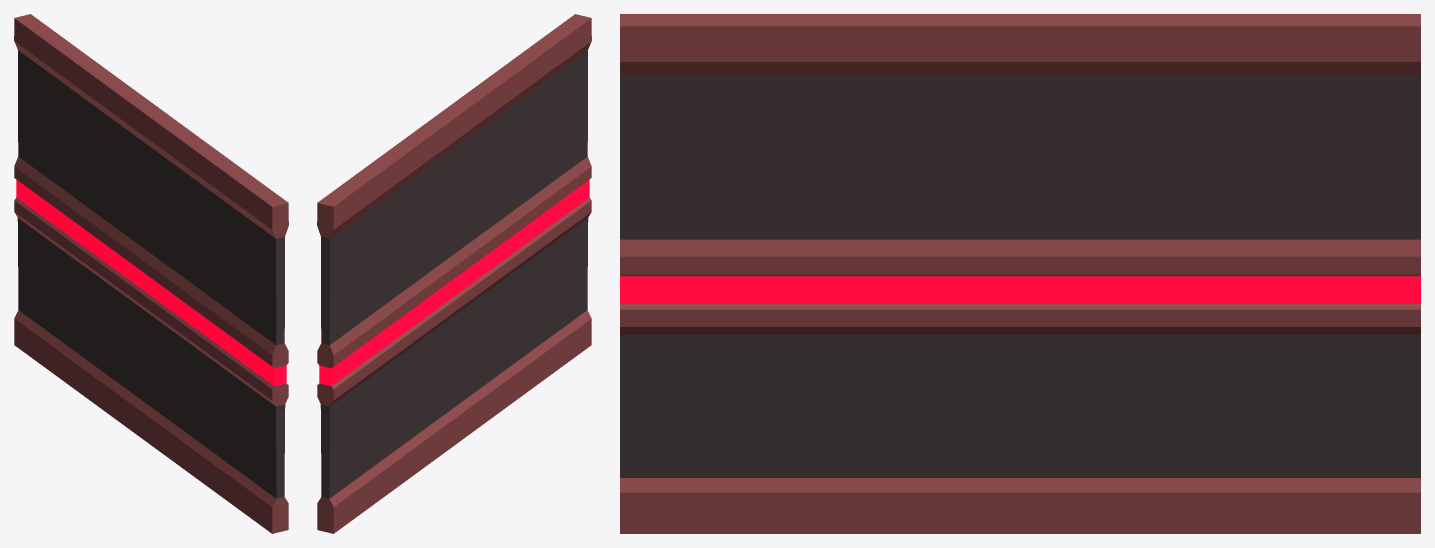
The model's file is Wall1.fbx.
3 views of the same model, side by side, from view 1: azimuth 30°, elevation 25°; view 2: azimuth 150°, elevation 25°; view 3: azimuth 270°, elevation 25° (orthographic). The views are drawn at different scales.
Visible parts, largest first — view 1: Wall1; view 2: Wall1; view 3: Wall1.
Part boxes in pixels (x1,y1,x2,y2): Wall1: [14, 14, 288, 533]; Wall1: [317, 14, 591, 533]; Wall1: [620, 14, 1420, 533].
Size of the model in its own units: 202 by 3793 by 5425.
